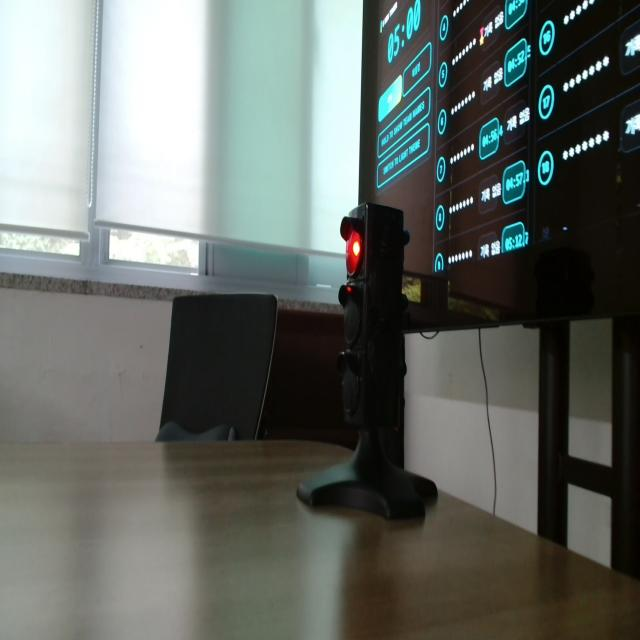red_light: (346, 230, 362, 276)
